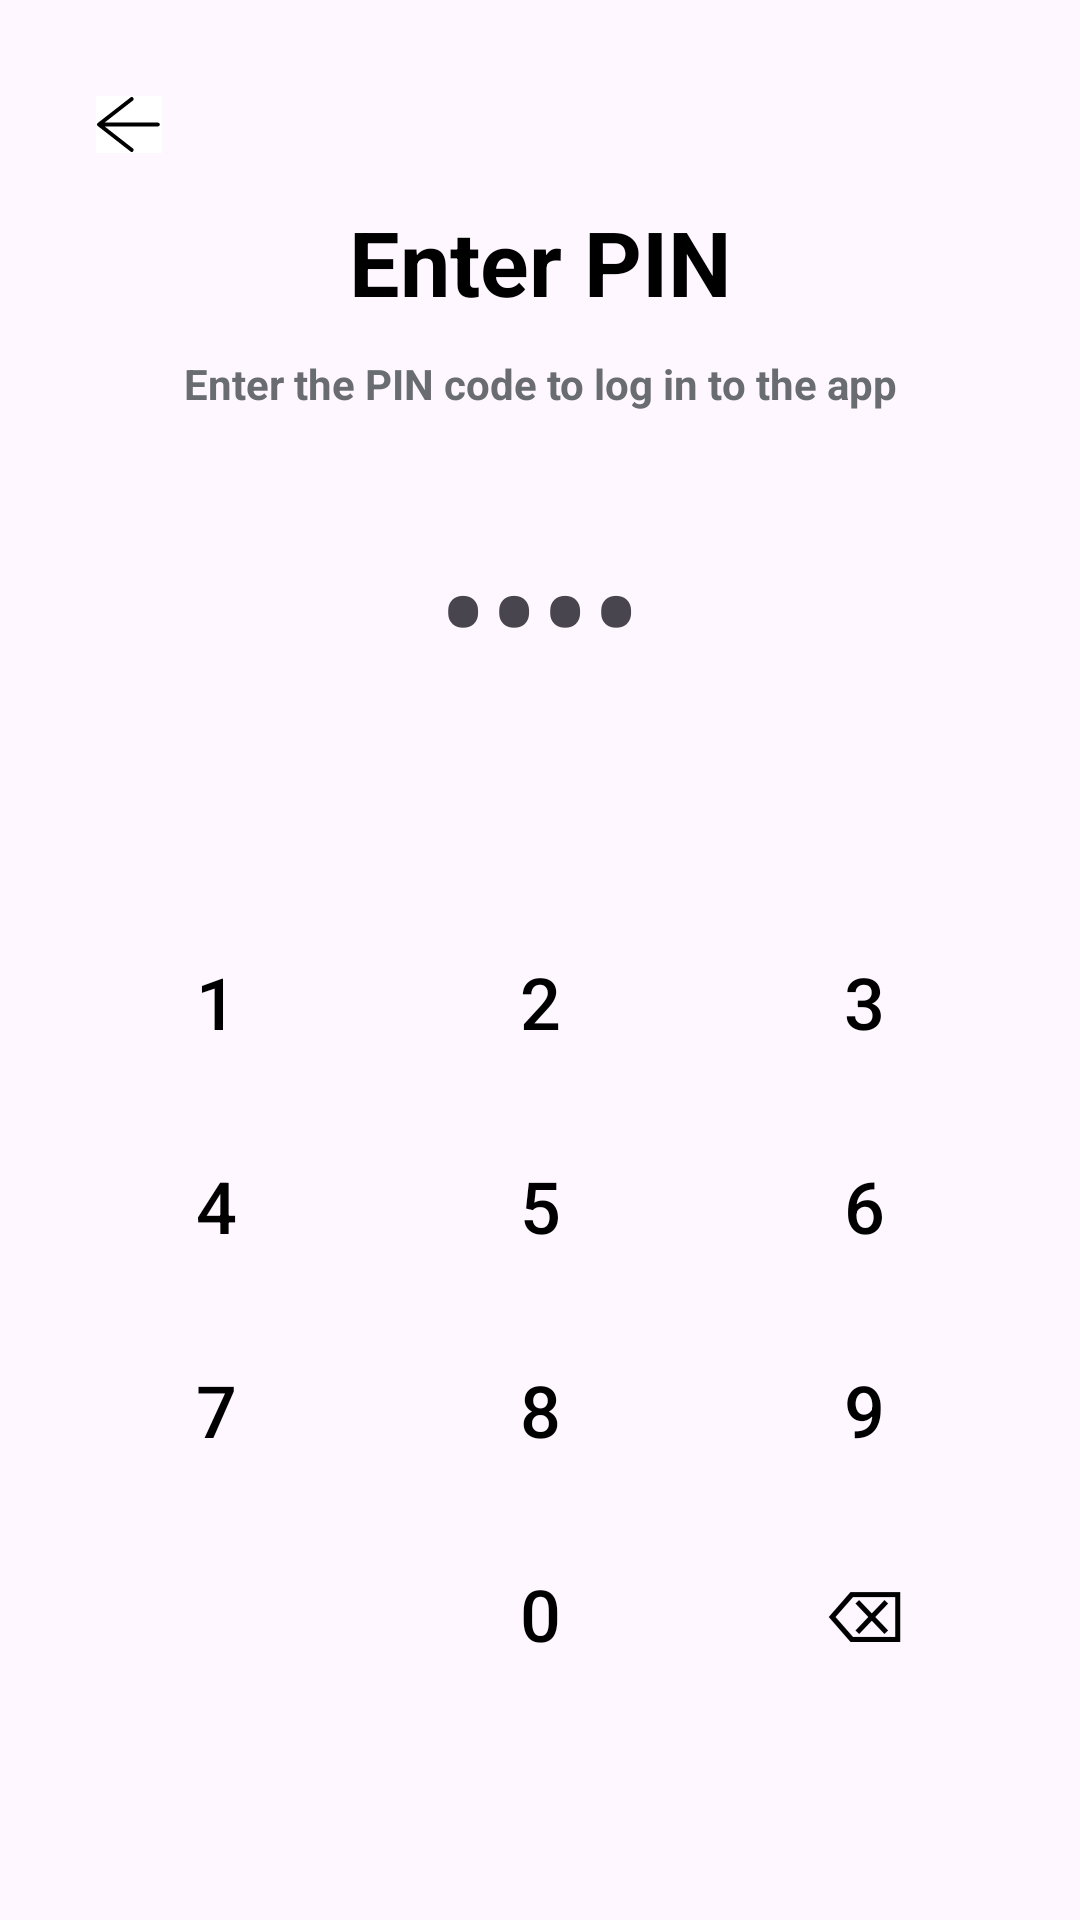

Point at icon controls on the screen. Image size 1080x1920, points as point (x, y).
Back: point (128, 124)
